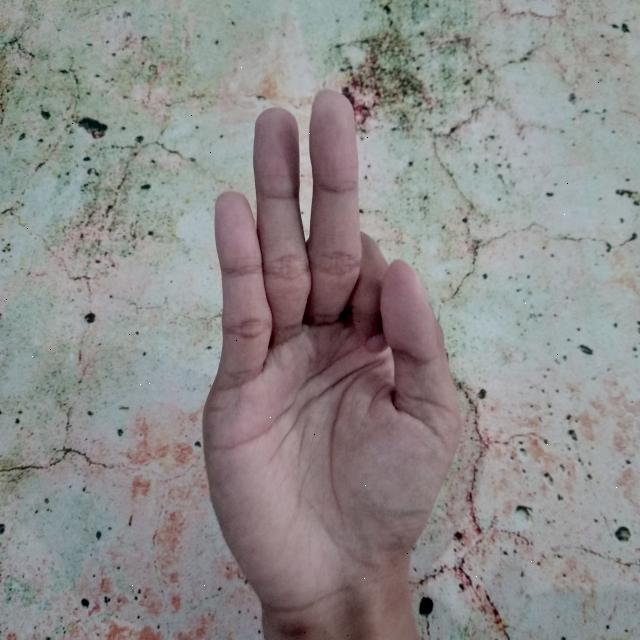F: (192, 85, 461, 640)
